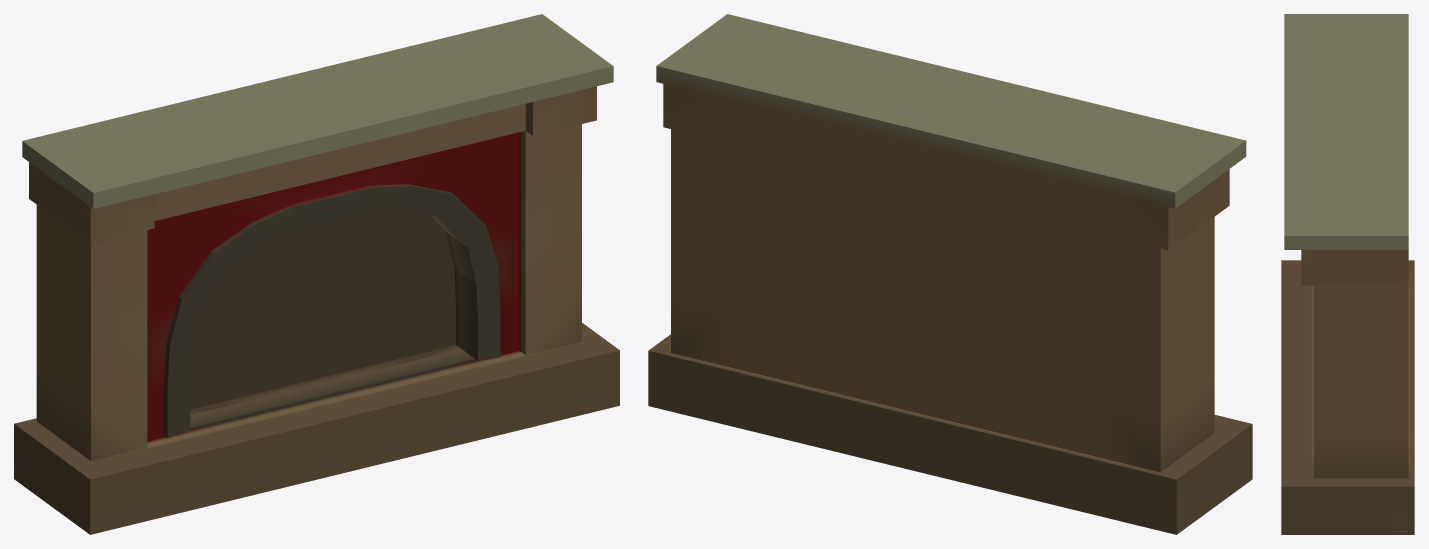
The model's file is Kominek.fbx.
3 views of the same model, side by side, from view 1: azimuth 30°, elevation 25°; view 2: azimuth 150°, elevation 25°; view 3: azimuth 270°, elevation 25° (orthographic). The views are drawn at different scales.
Visible parts, largest first — view 1: Cube; view 2: Cube; view 3: Cube.
Part boxes in pixels (box(x1,y1,x2,y2)): Cube: box(14, 14, 619, 534); Cube: box(648, 14, 1252, 534); Cube: box(1281, 14, 1414, 534).
Bounding box in the file's own units: 2000 × 1225 × 499.
